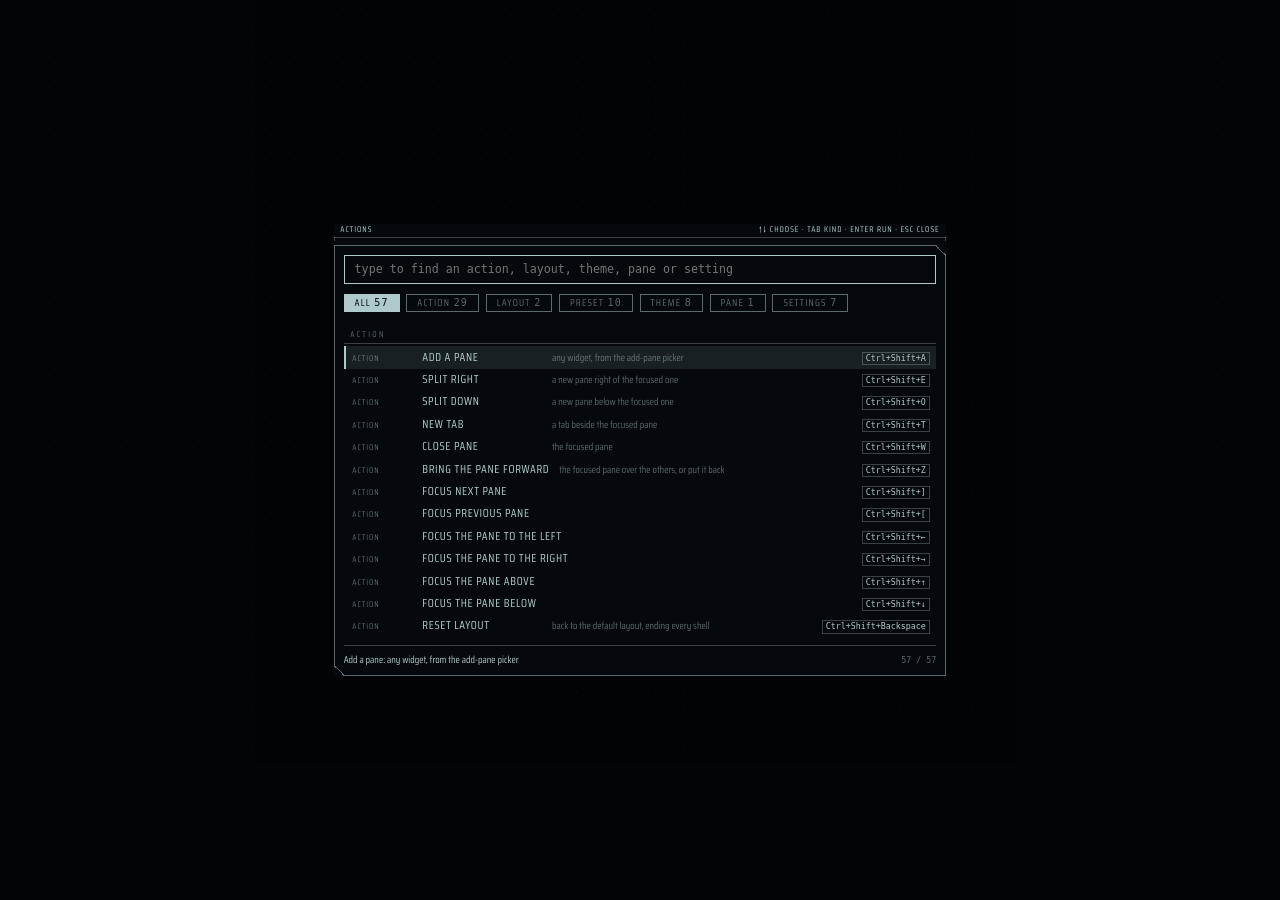
it: finding › narrows the rows as words are typed, underlining what matched
Type "split right" into the field with test id "action-palette-filter".
click(640, 269); type("split right")  # box [344,255,936,284]
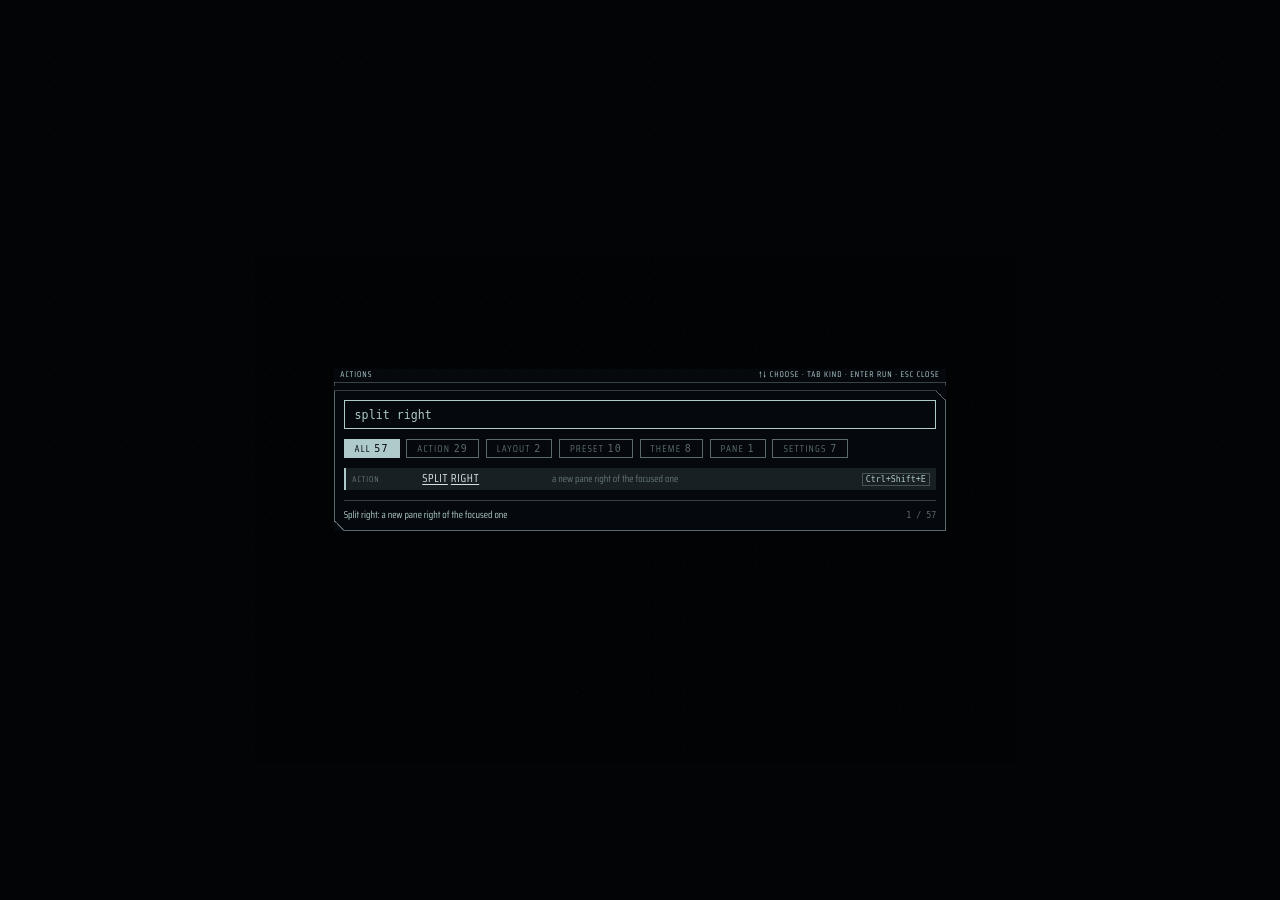
Expected: the text "Split" is shown, [422,469,448,487]
Result: the text with test id "action-palette-footer" shows "a new pane right of the focused one" at [344,506,508,522]
